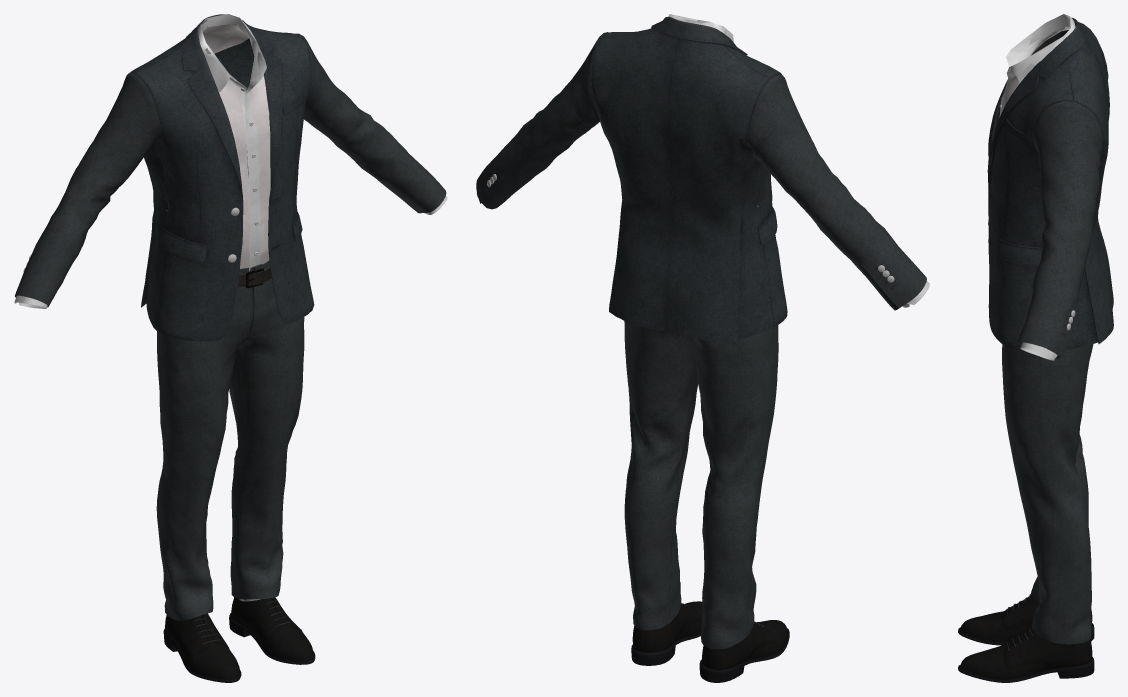
The picture shows the model from 3 angles, left to right: view 1: azimuth 30°, elevation 25°; view 2: azimuth 150°, elevation 25°; view 3: azimuth 270°, elevation 25°; orthographic projection. The views are drawn at different scales.
Parts seen in each view (by area): view 1: 00B215B6E9FA3E9C.PRIM_3_5, 00408DC64039D5CB.PRIM_1_3, 00B215B6E9FA3E9C.PRIM_20_9, 00C536224D4F37E1.PRIM_0_0; view 2: 00B215B6E9FA3E9C.PRIM_3_5, 00408DC64039D5CB.PRIM_1_3, 00C536224D4F37E1.PRIM_0_0; view 3: 00B215B6E9FA3E9C.PRIM_3_5, 00408DC64039D5CB.PRIM_1_3, 00C536224D4F37E1.PRIM_0_0, 00B215B6E9FA3E9C.PRIM_20_9, 00B215B6E9FA3E9C.PRIM_11_7.
Part boxes in pixels (x1,y1,x2,y2): 00B215B6E9FA3E9C.PRIM_3_5: (15,14,446,341); 00408DC64039D5CB.PRIM_1_3: (156,260,304,620); 00B215B6E9FA3E9C.PRIM_20_9: (166,14,270,271); 00C536224D4F37E1.PRIM_0_0: (163,597,315,682); 00B215B6E9FA3E9C.PRIM_3_5: (476,16,926,341); 00408DC64039D5CB.PRIM_1_3: (624,321,778,649); 00C536224D4F37E1.PRIM_0_0: (631,601,789,682); 00B215B6E9FA3E9C.PRIM_3_5: (987,18,1113,358); 00408DC64039D5CB.PRIM_1_3: (1002,344,1093,644); 00C536224D4F37E1.PRIM_0_0: (958,594,1094,682); 00B215B6E9FA3E9C.PRIM_20_9: (999,14,1075,117); 00B215B6E9FA3E9C.PRIM_11_7: (1020,342,1057,360).
Size of the model in its own units: 1.17 by 1.62 by 0.3623.
Materials: 8 (8 with a texture image).
